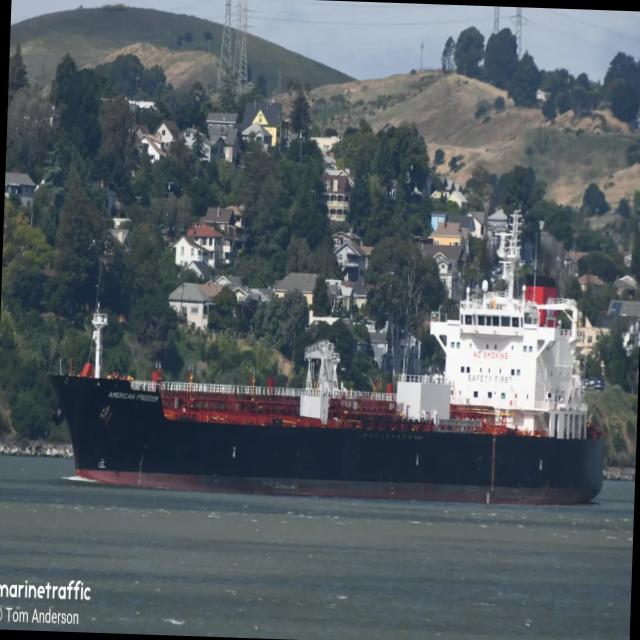Tanker: (49, 210, 603, 504)
